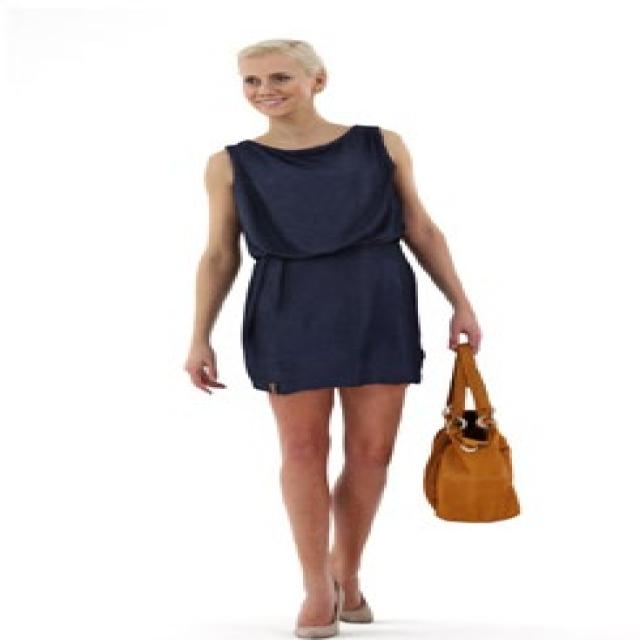standing: (179, 37, 488, 640)
